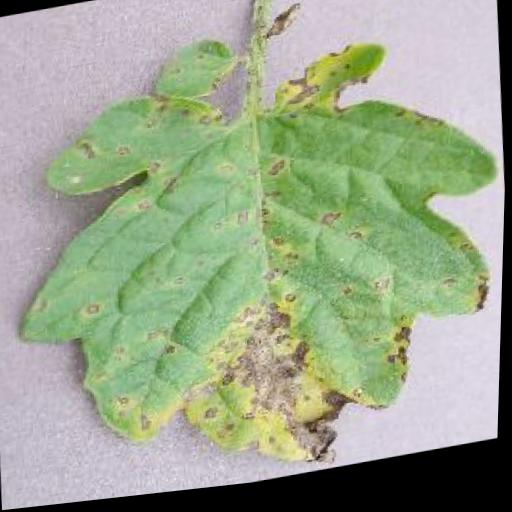Septoria: (1, 0, 511, 511)
